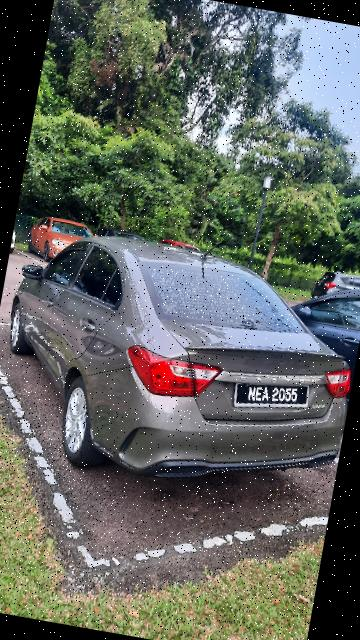License_Plate: (229, 372, 319, 424)
car: (1, 208, 360, 524)
